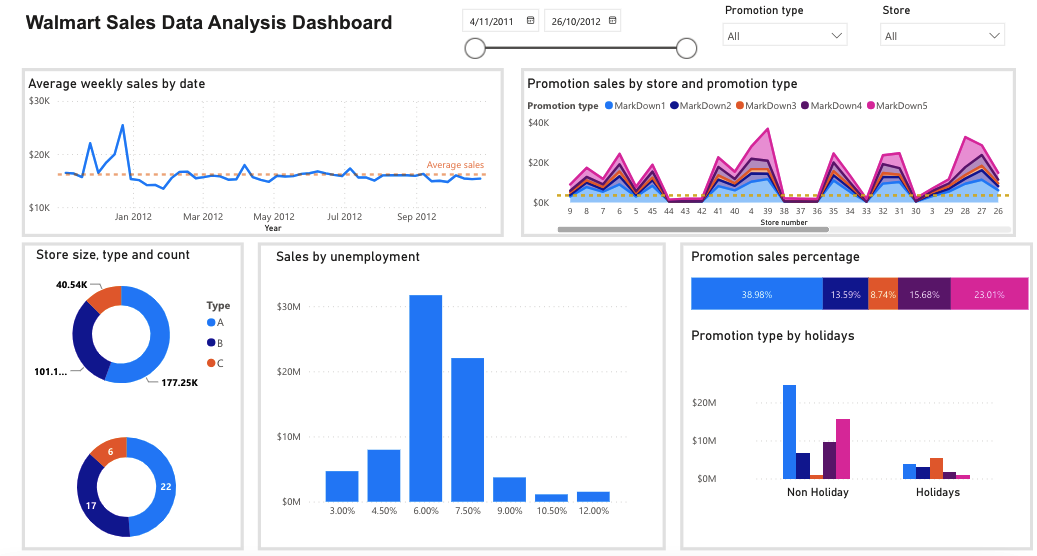

Layout of this report page (visuals, bound fields, positions):
{"tool":"powerbi","page":{"name":"Walmart sales analysis","canvas":[1280,720],"ordinal":0},"visuals":[{"type":"textbox","box":[16,25,517,46],"z":0},{"type":"lineChart","title":"Average weekly sales by date","fields":{"Y":["Avg(Sales.Weekly_Sales)"],"Category":["Sales.Date.Variation.Date Hierarchy.Year","Sales.Date.Variation.Date Hierarchy.Quarter","Sales.Date.Variation.Date Hierarchy.Month","Sales.Date.Variation.Date Hierarchy.Day"]},"box":[19,111,600,200],"z":1000},{"type":"hundredPercentStackedBarChart","title":"Promotion sales percentage","fields":{"Y":["Sum(Feature.Value)"],"Series":["Feature.Attribute"]},"box":[848,326.7,432,92],"z":2000},{"type":"columnChart","title":"Sales by unemployment","fields":{"Category":["Feature.Unemployment% (bins)"],"Y":["Sum(Feature.Value)"]},"box":[329,327,449,345],"z":3000},{"type":"donutChart","title":"Store size, type and count","fields":{"Category":["Stores.Type"],"Y":["CountNonNull(Stores.Store)"]},"box":[0,537,294,173],"z":4000},{"type":"clusteredColumnChart","title":"Promotion type by holidays","fields":{"Rows":["Feature.Holidays"],"Y":["Sum(Feature.Value)"],"Series":["Feature.Attribute"]},"box":[848,425.7,432,261],"z":5000},{"type":"slicer","title":"Date","fields":{"Values":["Sales.Date"]},"box":[554,16,314,92],"z":6000},{"type":"slicer","fields":{"Values":["Sales.Store"]},"box":[1079,16,176,64],"z":7000},{"type":"slicer","fields":{"Values":["Feature.Attribute"]},"box":[882,16,176,64],"z":8000},{"type":"stackedAreaChart","title":"Promotion sales by store and promotion type","fields":{"Category":["Feature.Store"],"Y":["Avg(Feature.Promotion sales)"],"Series":["Feature.Promotion type"]},"box":[643,111,615,200],"z":9000},{"type":"donutChart","title":"Store size, type and count","fields":{"Category":["Stores.Type"],"Y":["Avg(Stores.Size)"]},"box":[29,325,273,200],"z":10000},{"type":"shape","box":[16,100,603,211],"z":11000},{"type":"shape","box":[640,100,619,211],"z":12000},{"type":"shape","box":[16,318,278,385],"z":13000},{"type":"shape","box":[311,318,510,385],"z":14000},{"type":"shape","box":[839,318,441,385],"z":15000}]}

Visuals, with their boxes on the page's 1280x720 design canvas (x1, y1, x2, y2). These are canvas units, not pixel positions in the 1037x556 screenshot, which may show the page scaled, cropped or inside an application window:
textbox: locate(16, 25, 533, 71)
"Average weekly sales by date" lineChart: locate(19, 111, 619, 311)
"Promotion sales percentage" hundredPercentStackedBarChart: locate(848, 327, 1280, 419)
"Sales by unemployment" columnChart: locate(329, 327, 778, 672)
"Store size, type and count" donutChart: locate(0, 537, 294, 710)
"Promotion type by holidays" clusteredColumnChart: locate(848, 426, 1280, 687)
"Date" slicer: locate(554, 16, 868, 108)
slicer - Sales.Store: locate(1079, 16, 1255, 80)
slicer - Feature.Attribute: locate(882, 16, 1058, 80)
"Promotion sales by store and promotion type" stackedAreaChart: locate(643, 111, 1258, 311)
"Store size, type and count" donutChart: locate(29, 325, 302, 525)
shape: locate(16, 100, 619, 311)
shape: locate(640, 100, 1259, 311)
shape: locate(16, 318, 294, 703)
shape: locate(311, 318, 821, 703)
shape: locate(839, 318, 1280, 703)
